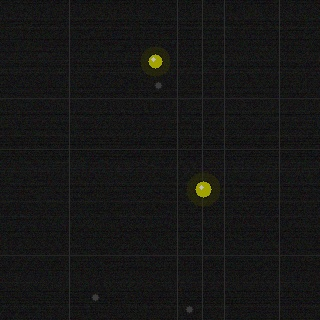yellow_warning: (193, 179, 213, 199), (146, 52, 164, 70)
